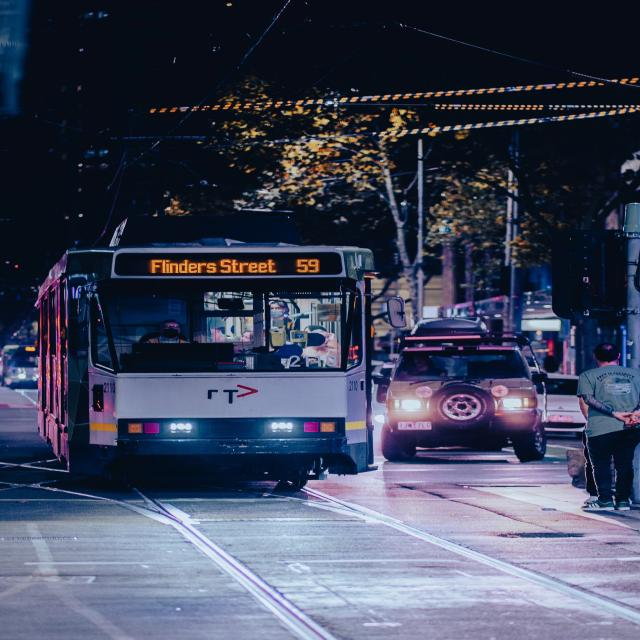adult: (581, 344, 640, 509), (145, 320, 191, 343), (270, 302, 295, 343)
